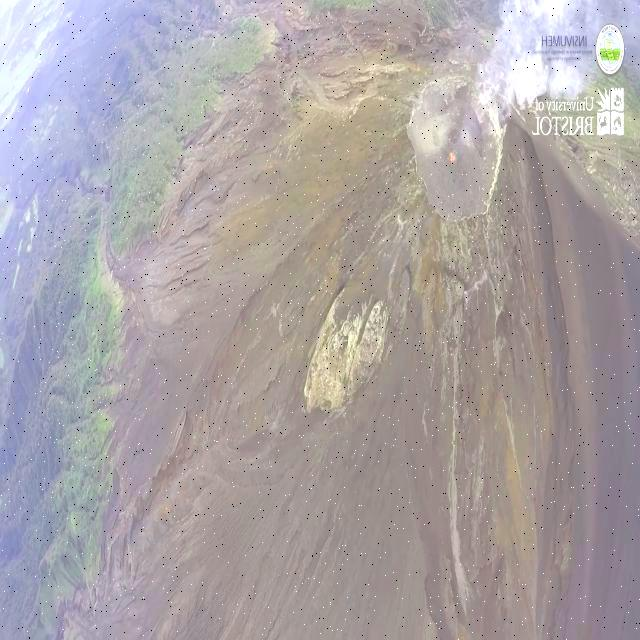Summit: (399, 68, 512, 234)
